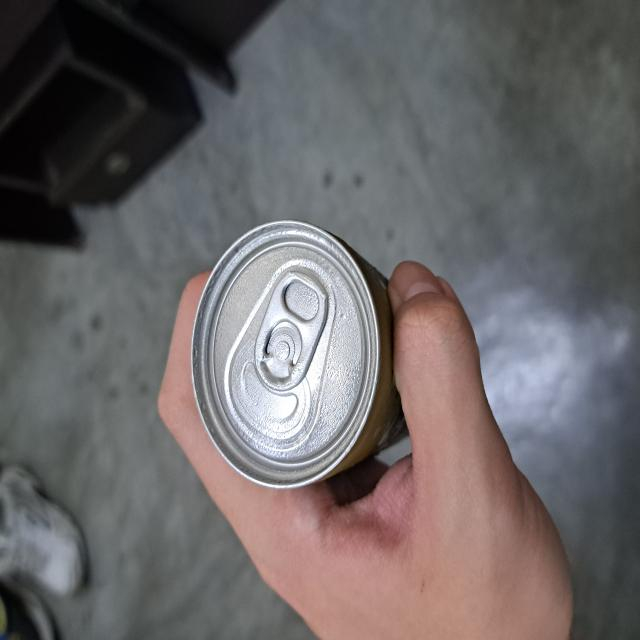can: (190, 217, 392, 490)
pop tab: (257, 276, 327, 396)
